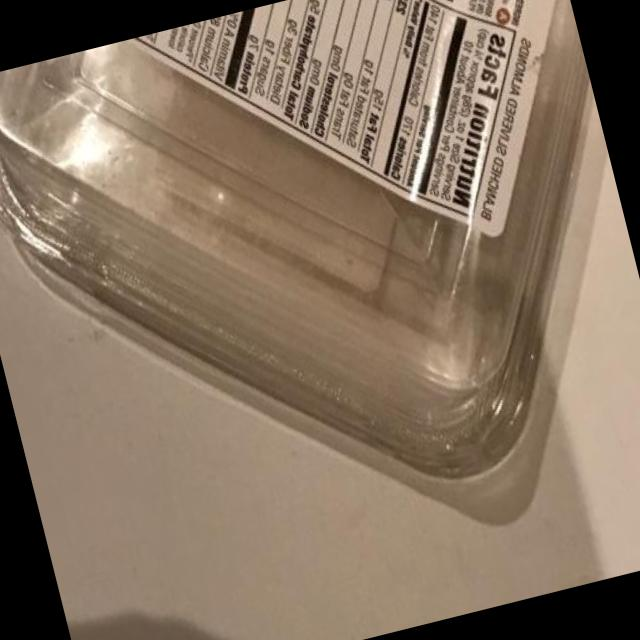Clamshell: (0, 0, 640, 588)
Label: (110, 0, 623, 323)
